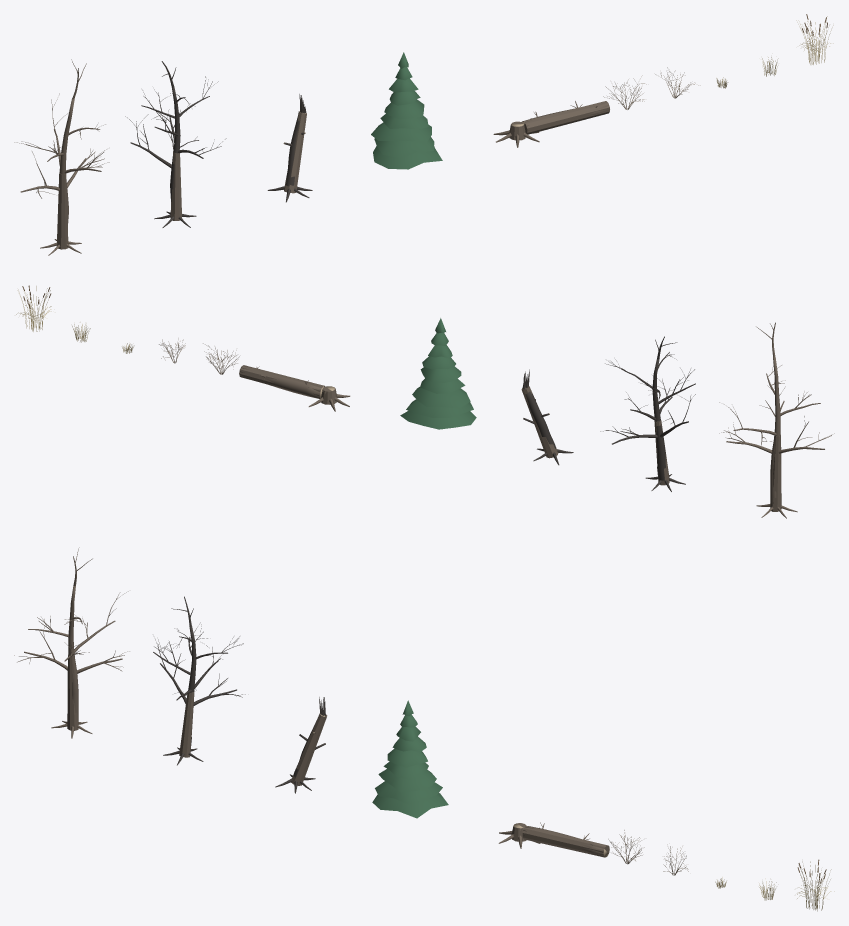
Rendered from veg_1.glb.
3 renders of one model, top to bottom at view 1: azimuth 30°, elevation 25°; view 2: azimuth 150°, elevation 25°; view 3: azimuth 330°, elevation 25°, orthographic.
Parts seen in each view (by area): view 1: spruce_young, dead_tree_a, dead_tree_b, COL_fallen_log, COL_dead_tree_a, reed_clump, broken_tree, COL_broken_tree, COL_dead_tree_b; view 2: spruce_young, dead_tree_b, dead_tree_a, broken_tree, fallen_log, COL_fallen_log, COL_dead_tree_a, reed_clump; view 3: spruce_young, dead_tree_a, dead_tree_b, COL_fallen_log, COL_broken_tree.
Boxes of the visible parts, x1,y1,x2,y2 form: spruce_young: (371,52,442,169); dead_tree_a: (14,59,109,255); dead_tree_b: (125,61,226,227); COL_fallen_log: (522,101,609,134); COL_dead_tree_a: (56,172,68,249); reed_clump: (796,14,833,64); broken_tree: (267,94,312,202); COL_broken_tree: (284,111,306,193); COL_dead_tree_b: (170,151,182,220); spruce_young: (400,318,476,429); dead_tree_b: (600,336,695,491); dead_tree_a: (719,322,834,518); broken_tree: (522,369,573,465); fallen_log: (239,365,323,398); COL_fallen_log: (239,365,325,398); COL_dead_tree_a: (770,435,781,511); reed_clump: (16,285,51,331); spruce_young: (372,700,448,818); dead_tree_a: (14,547,129,738); dead_tree_b: (153,596,245,765); COL_fallen_log: (522,825,609,857); COL_broken_tree: (291,713,327,785).
Size of the model in its own units: 39.55 by 8.73 by 4.53.
